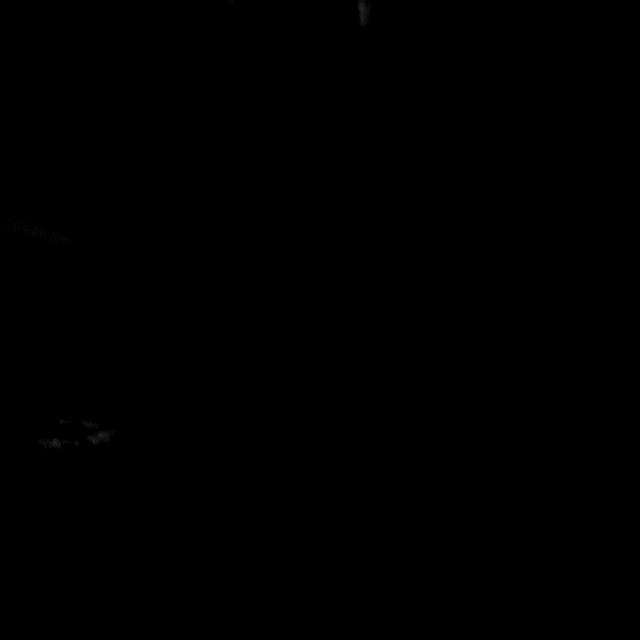Dog: (195, 233, 342, 399), (377, 306, 495, 483)
